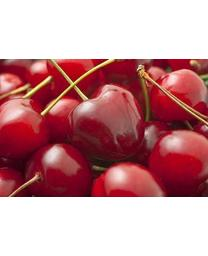cherry: (67, 85, 143, 159), (147, 130, 207, 194), (25, 145, 91, 196), (1, 97, 50, 161), (150, 69, 204, 123), (92, 162, 163, 197)
